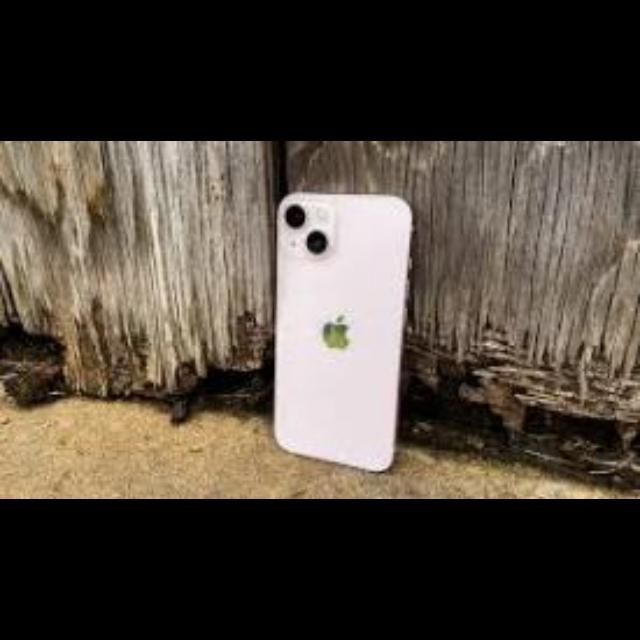Phone: (273, 190, 412, 464)
